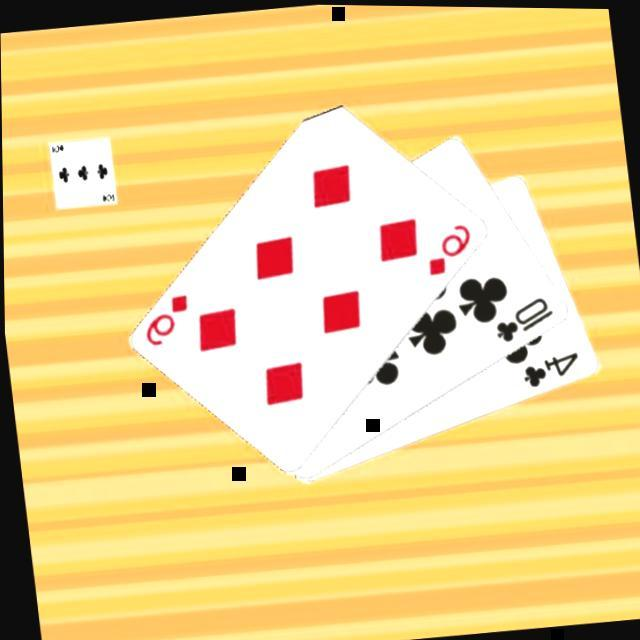10C: (486, 288, 558, 344)
4C: (514, 344, 584, 388)
6D: (418, 214, 477, 276), (135, 286, 194, 348)
